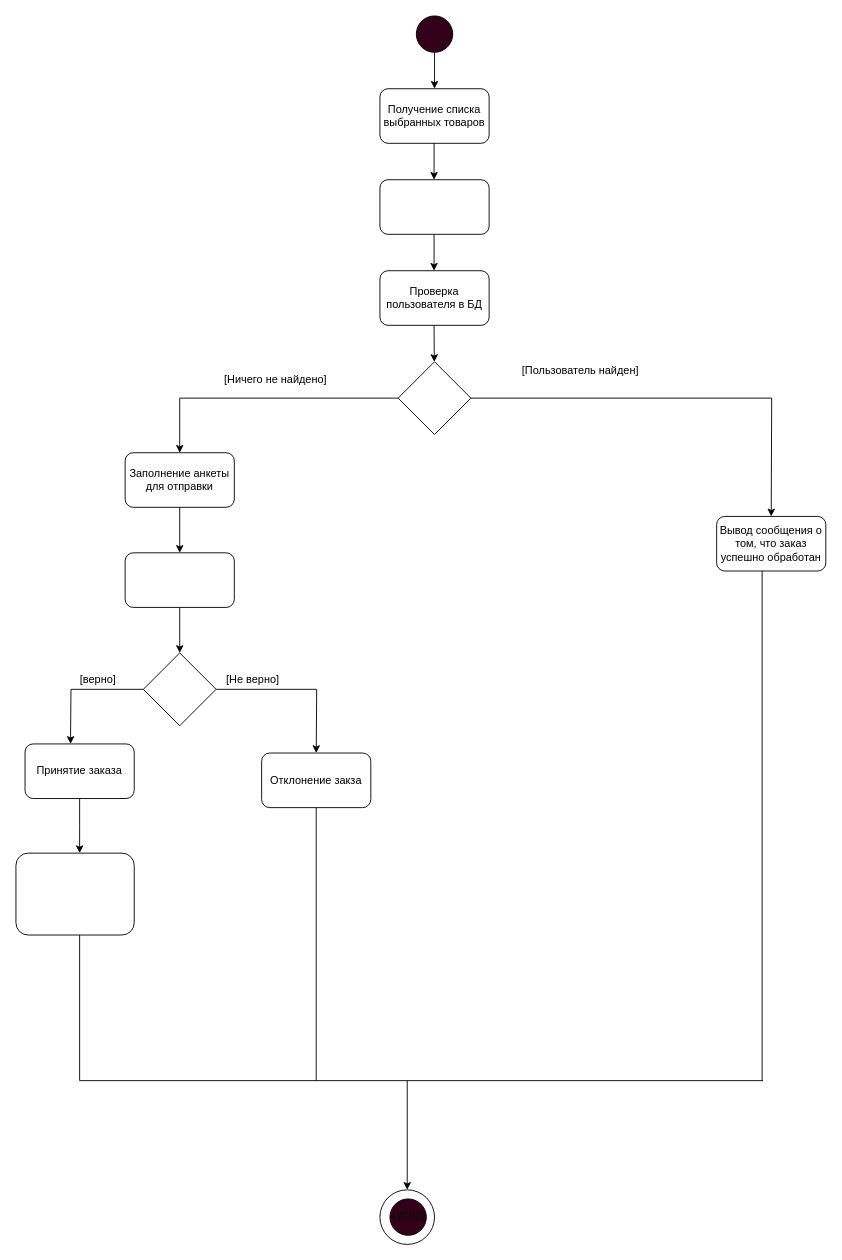
This 842x1260 diagram has some shape labels left out. Here are the shapes that lost their labels. From the top down, the centre of each, then its label:
At point (434, 206): "Проверка/Поиск анкеты для отправки".
At point (179, 579): "Проверка".
At point (74, 893): "Выведение сообщения о предоплате, т.к. пользователь делает заказ впервые".
